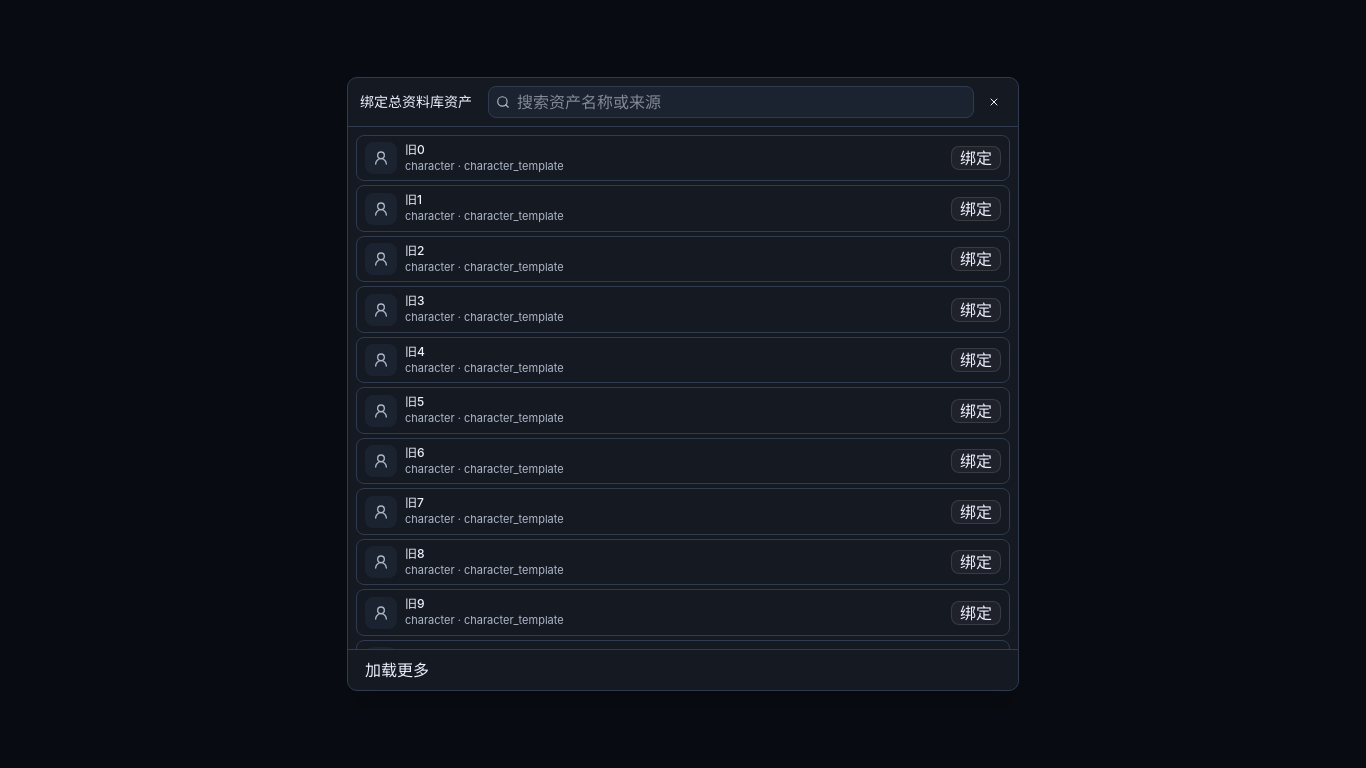
BindingPicker 搜索代失效保护 › 旧查询的 loadMore 晚返回时不得混入新搜索结果
Expected: the text "旧0" is shown, [405,142,425,157]
Click the button "加载更多": point(397, 670) [356,658,438,682]
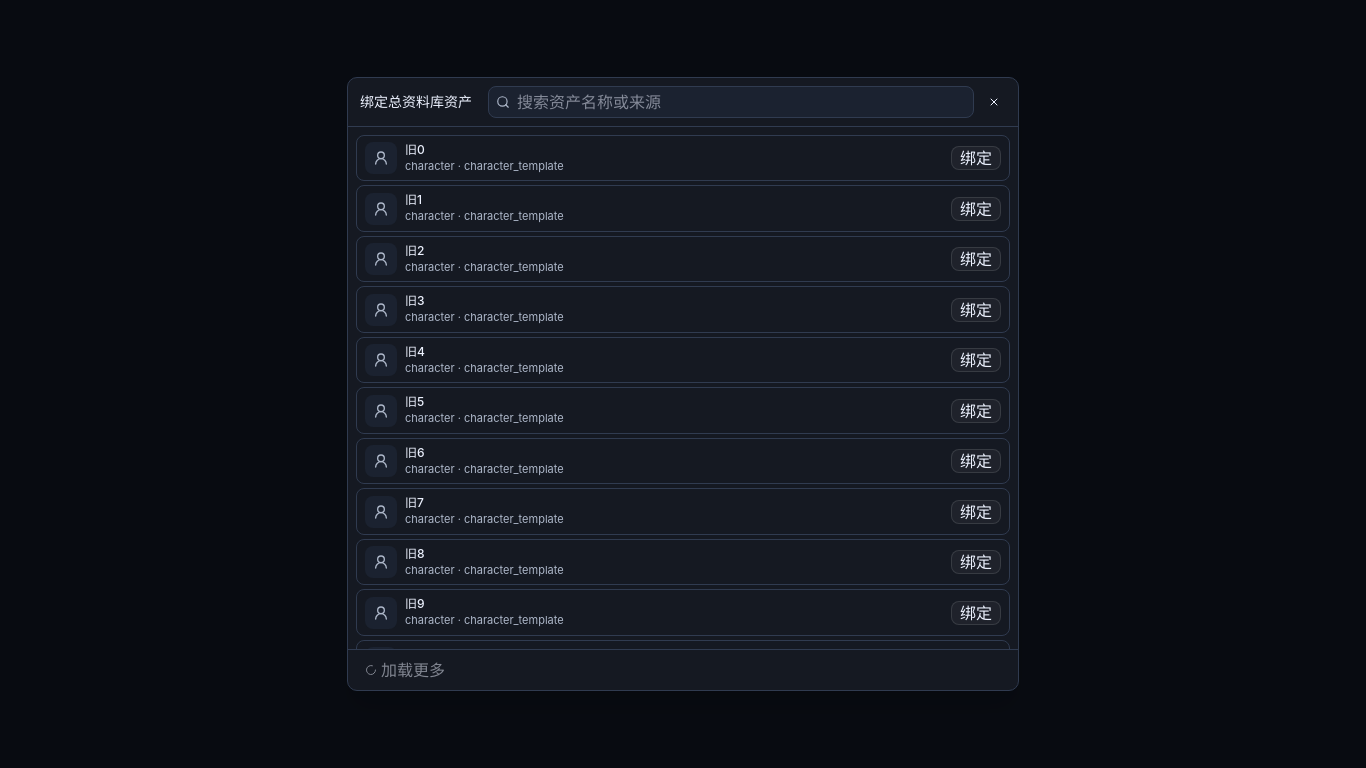
In the field with placeholder "搜索资产名称或来源": point(731, 102) [488,86,974,118], type "新"
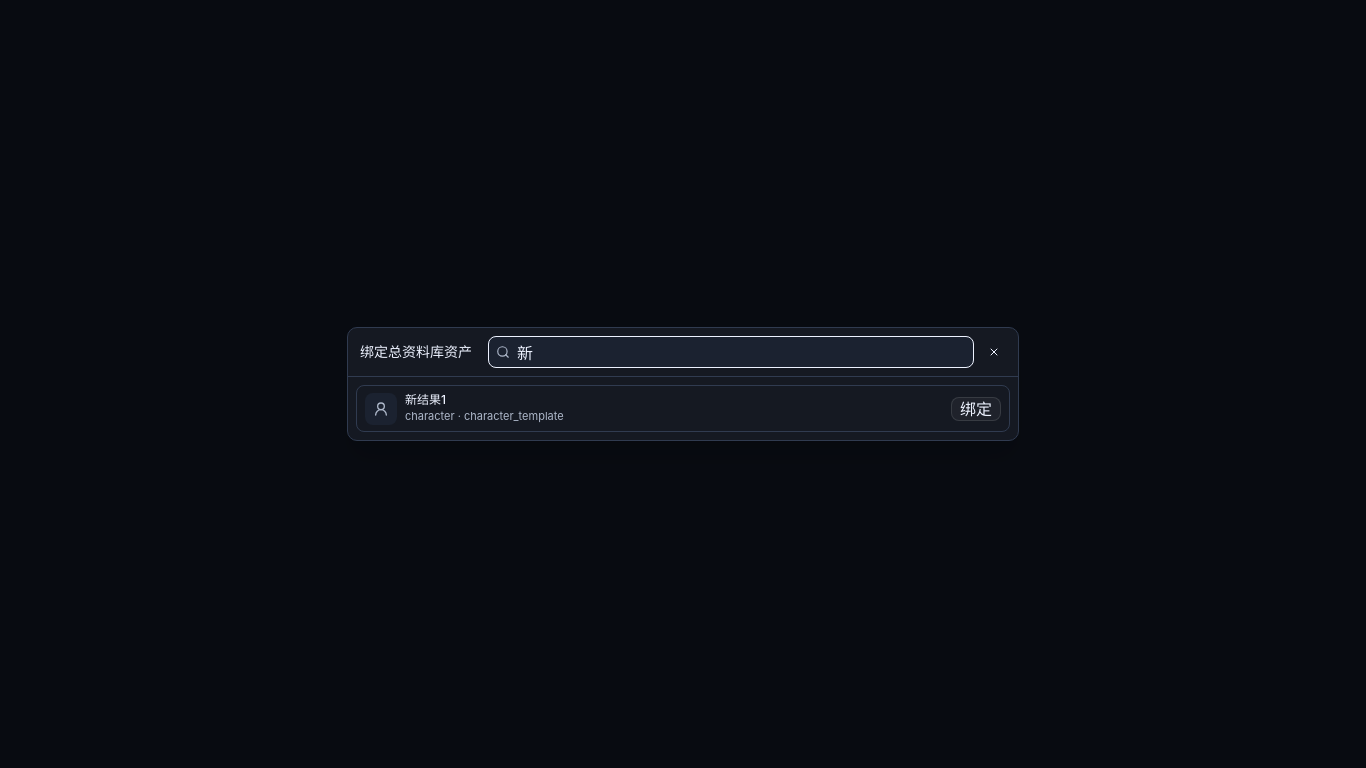
Expected: the text "旧0" is gone
Expected: the text "新结果1" is shown, [405,392,446,407]
Expected: the button "加载更多" is gone
